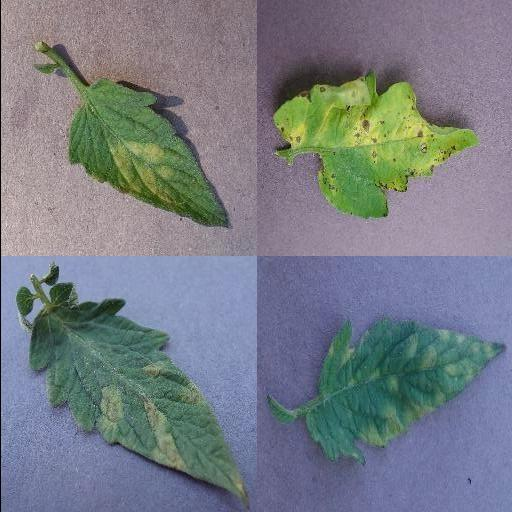Leaf Mold: (26, 282, 248, 500), (303, 315, 507, 465), (66, 76, 230, 228)
Septoria: (269, 69, 481, 217)
